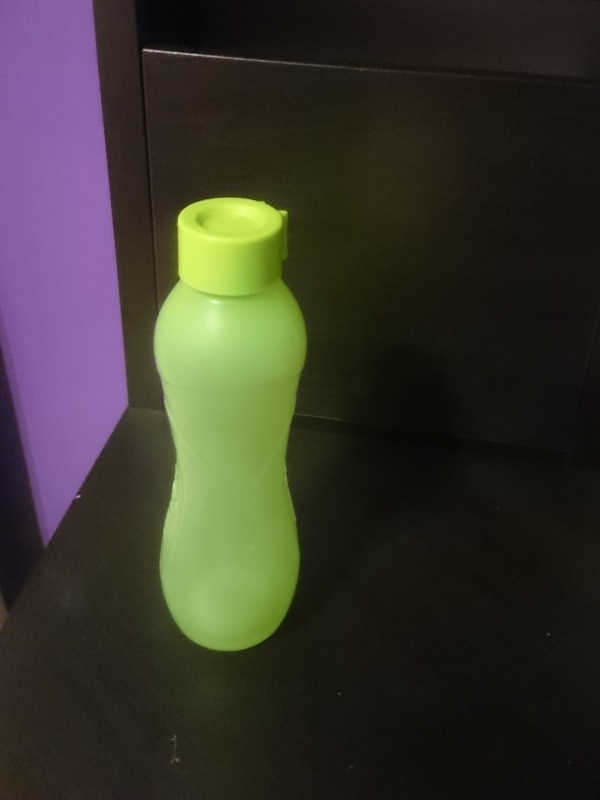my bottle: (150, 196, 307, 654)
